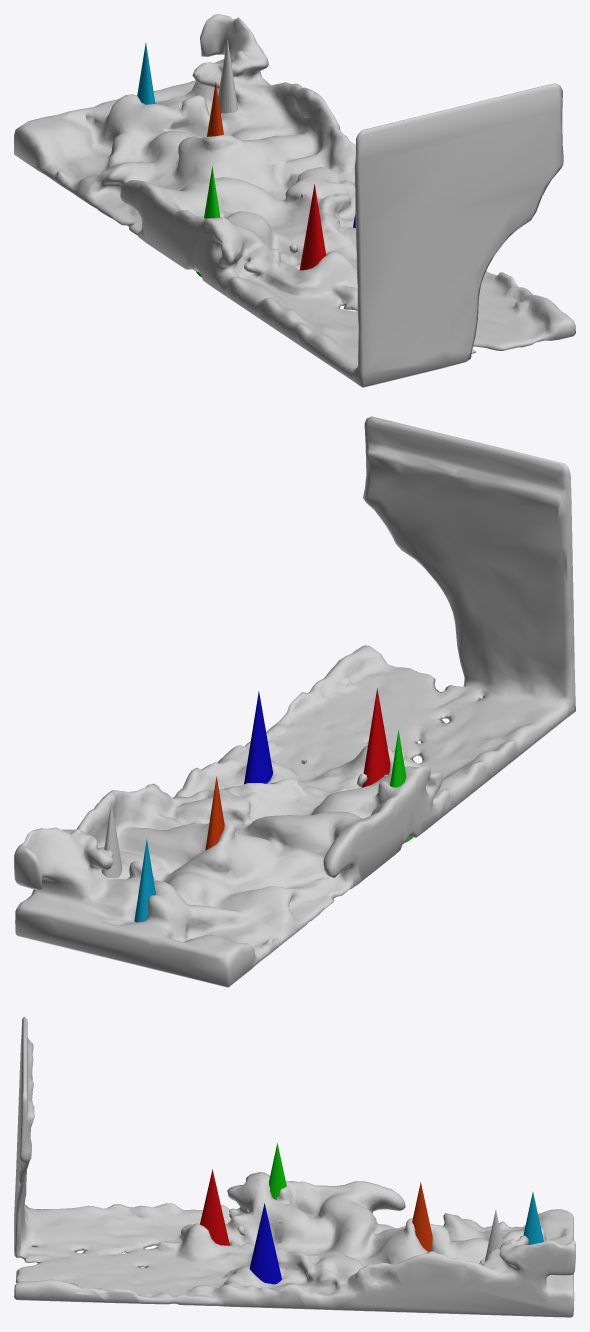
The picture shows the model from 3 angles, top to bottom: view 1: azimuth 30°, elevation 25°; view 2: azimuth 150°, elevation 25°; view 3: azimuth 270°, elevation 25°; orthographic projection. The views are drawn at different scales.
Parts seen in each view (by area): view 1: Liquid_Domain, 円錐.001, 円錐, 円錐.005, 円錐.004, 円錐.003; view 2: Liquid_Domain, 円錐.002, 円錐.001, 円錐.005, 円錐, 円錐.004; view 3: Liquid_Domain, 円錐.002, 円錐.001, 円錐.004, 円錐.005, 円錐.003, 円錐.
Part boxes in pixels (x1,y1,x2,y2): Liquid_Domain: (14, 14, 575, 387); 円錐.001: (299, 184, 325, 270); 円錐: (218, 39, 237, 113); 円錐.005: (137, 42, 155, 104); 円錐.004: (207, 82, 223, 136); 円錐.003: (196, 166, 220, 277); Liquid_Domain: (14, 416, 575, 987); 円錐.002: (244, 691, 272, 784); 円錐.001: (361, 688, 390, 787); 円錐.005: (134, 839, 155, 922); 円錐: (101, 802, 122, 878); 円錐.004: (205, 776, 224, 850); Liquid_Domain: (14, 1016, 575, 1317); 円錐.002: (249, 1203, 281, 1284); 円錐.001: (200, 1169, 229, 1245); 円錐.004: (412, 1182, 432, 1251); 円錐.005: (523, 1192, 543, 1244); 円錐.003: (269, 1143, 286, 1199); 円錐: (484, 1210, 502, 1262).
Size of the model in its own units: 129 by 157 by 362.
